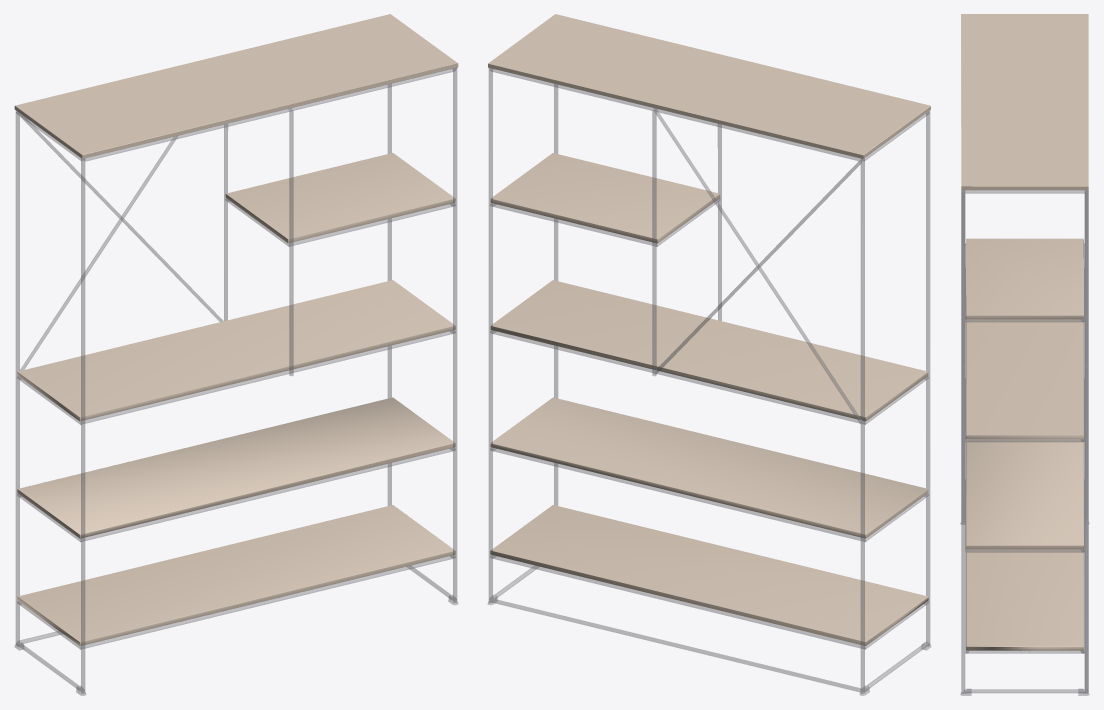
The model's file is Shelf2.glb.
The picture shows the model from 3 angles, left to right: view 1: azimuth 30°, elevation 25°; view 2: azimuth 150°, elevation 25°; view 3: azimuth 270°, elevation 25°; orthographic projection. The views are drawn at different scales.
Parts seen in each view (by area): view 1: Furniture_Shelving-Storage_Fritz-Hansen_PlannerT-MC520; view 2: Furniture_Shelving-Storage_Fritz-Hansen_PlannerT-MC520; view 3: Furniture_Shelving-Storage_Fritz-Hansen_PlannerT-MC520.
Boxes of the visible parts, bbox=[...] form: Furniture_Shelving-Storage_Fritz-Hansen_PlannerT-MC520: bbox=[14, 14, 458, 695]; Furniture_Shelving-Storage_Fritz-Hansen_PlannerT-MC520: bbox=[487, 14, 931, 695]; Furniture_Shelving-Storage_Fritz-Hansen_PlannerT-MC520: bbox=[960, 14, 1089, 695].
Size of the model in its own units: 24.14 by 33 by 7.63.
